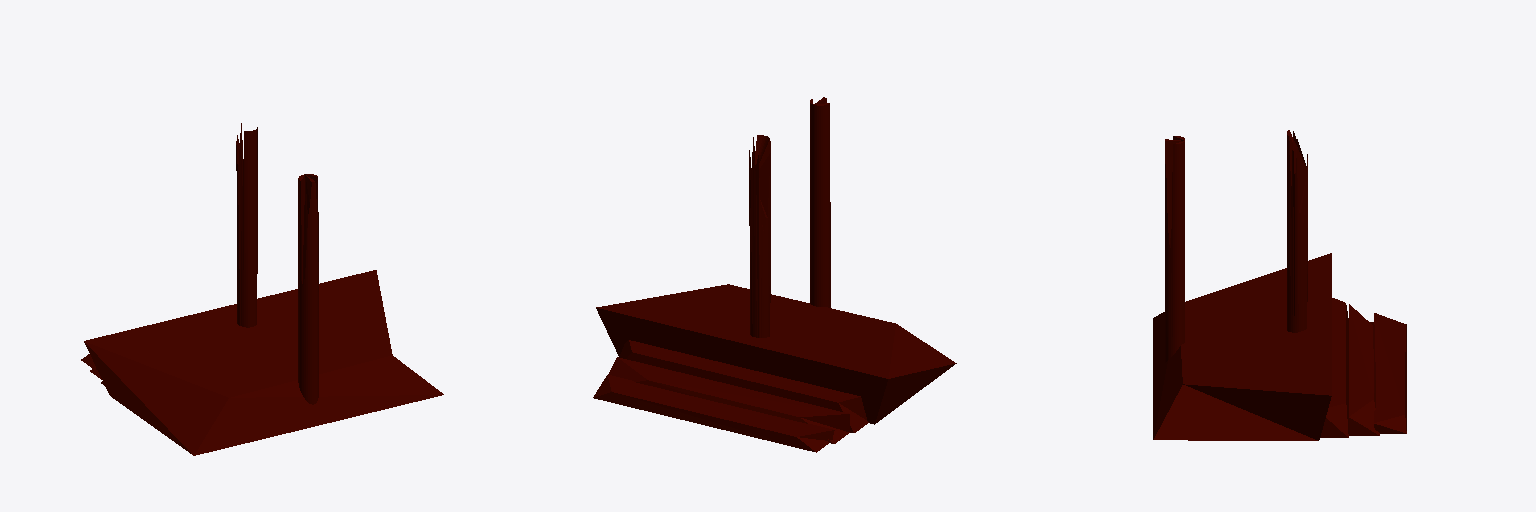
Rendered from fixax.obj.
The picture shows the model from 3 angles: view 1: azimuth 30°, elevation 25°; view 2: azimuth 150°, elevation 25°; view 3: azimuth 270°, elevation 25°; orthographic projection.
Parts seen in each view (by area): view 1: Cylinder.001; view 2: Cylinder.001; view 3: Cylinder.001.
Part boxes in pixels (x1,y1,x2,y2): Cylinder.001: (81,123,443,455); Cylinder.001: (593,97,956,452); Cylinder.001: (1153,130,1406,440).
Bounding box in the file's own units: 16.35 × 13.19 × 12.25.